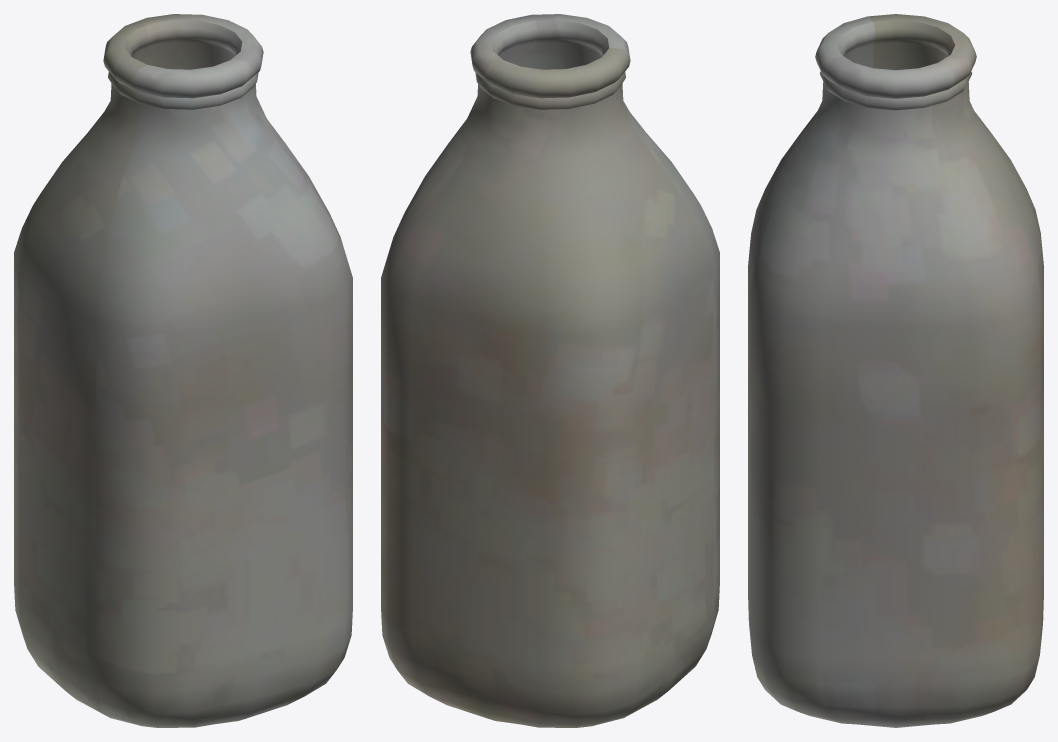
File: MilkIngredients.fbx
3 renders of one model, left to right at view 1: azimuth 30°, elevation 25°; view 2: azimuth 150°, elevation 25°; view 3: azimuth 270°, elevation 25°, orthographic.
Parts seen in each view (by area): view 1: c_madmilk; view 2: c_madmilk; view 3: c_madmilk.
Part boxes in pixels (bbox=[...]): c_madmilk: bbox=[14, 14, 352, 727]; c_madmilk: bbox=[381, 14, 719, 727]; c_madmilk: bbox=[748, 14, 1043, 727].
Bounding box in the file's own units: 90.26 × 215 × 90.26.
Materials: 2 (2 with a texture image).
